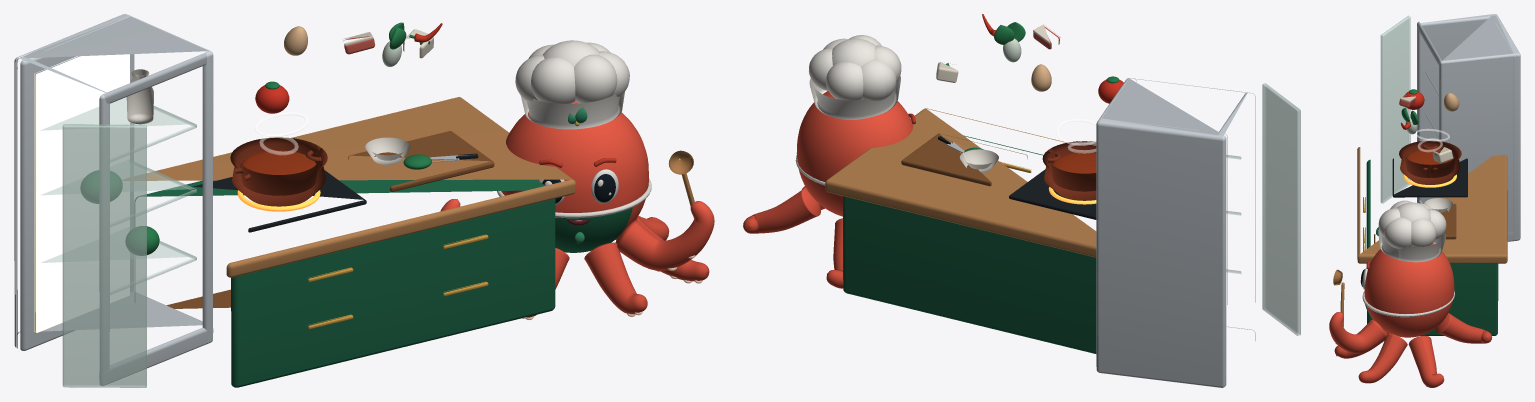
The model's file is kitchen-island-hero.glb.
3 renders of one model, left to right at view 1: azimuth 30°, elevation 25°; view 2: azimuth 150°, elevation 25°; view 3: azimuth 270°, elevation 25°, orthographic. The views are drawn at different scales.
Parts seen in each view (by area): view 1: Island_Base, Zone_Fridge, Tako_Hero_Head, Tako_Hero_Toque, Zone_Cooktop, Tako_Hero, Zone_Prep, Tako_Hero_Apron, Tako_Hero_Eyes, Ing_Tomato, Ing_Greens, Tako_Hero_LadleArm; view 2: Zone_Fridge, Island_Base, Tako_Hero_Toque, Tako_Hero_Head, Zone_Cooktop, Zone_Prep, Tako_Hero, Ing_Greens; view 3: Zone_Fridge, Island_Base, Tako_Hero_Head, Tako_Hero, Zone_Cooktop, Tako_Hero_Toque, Zone_Prep, Tako_Hero_Apron, Ing_Greens, Tako_Hero_LadleArm, Ing_Tomato, Ing_Egg (+1 smaller).
Boxes of the visible parts, x1,y1,x2,y2 form: Island_Base: [134, 97, 575, 387]; Zone_Fridge: [14, 14, 213, 387]; Tako_Hero_Head: [501, 101, 648, 235]; Tako_Hero_Toque: [515, 40, 629, 129]; Zone_Cooktop: [192, 112, 366, 232]; Tako_Hero: [440, 199, 714, 319]; Zone_Prep: [348, 131, 494, 191]; Tako_Hero_Apron: [497, 178, 651, 252]; Tako_Hero_Eyes: [538, 158, 618, 225]; Ing_Tomato: [255, 81, 289, 113]; Ing_Greens: [382, 22, 406, 66]; Tako_Hero_LadleArm: [668, 150, 694, 218]; Zone_Fridge: [1096, 78, 1300, 387]; Island_Base: [825, 108, 1096, 353]; Tako_Hero_Toque: [809, 35, 901, 119]; Tako_Hero_Head: [796, 91, 912, 216]; Zone_Cooktop: [1009, 119, 1096, 219]; Zone_Prep: [901, 133, 1027, 186]; Tako_Hero: [743, 186, 843, 288]; Ing_Greens: [994, 22, 1025, 62]; Zone_Fridge: [1380, 14, 1520, 241]; Island_Base: [1357, 147, 1507, 335]; Tako_Hero_Head: [1364, 243, 1454, 337]; Tako_Hero: [1329, 312, 1492, 387]; Zone_Cooktop: [1392, 129, 1467, 197]; Tako_Hero_Toque: [1376, 200, 1446, 262]; Zone_Prep: [1424, 198, 1456, 239]; Tako_Hero_Apron: [1362, 290, 1454, 331]; Ing_Greens: [1401, 107, 1418, 134]; Tako_Hero_LadleArm: [1333, 269, 1344, 326]; Ing_Tomato: [1403, 89, 1424, 109]; Ing_Egg: [1444, 93, 1459, 111].
Bounding box in the file's own units: 4.43 × 2.03 × 1.83.
